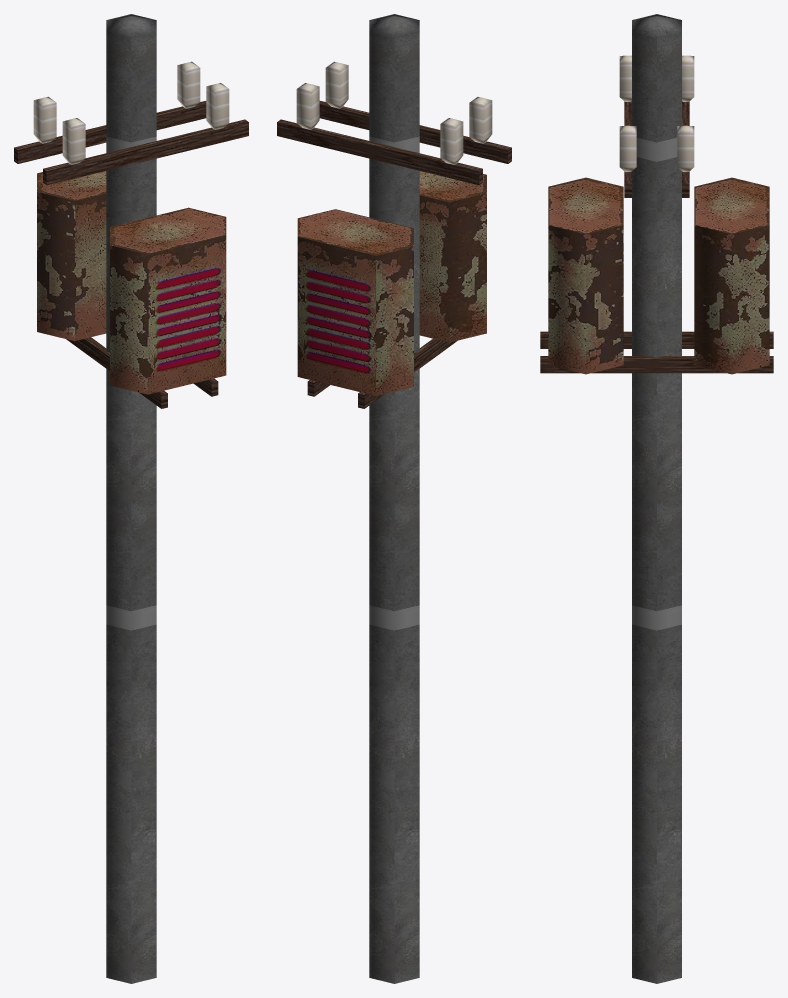
File: pm-electric-post-02.glb
3 renders of one model, left to right at view 1: azimuth 30°, elevation 25°; view 2: azimuth 150°, elevation 25°; view 3: azimuth 270°, elevation 25°, orthographic.
Parts seen in each view (by area): view 1: ElectricPost02_Art; view 2: ElectricPost02_Art; view 3: ElectricPost02_Art.
Part boxes in pixels (left/top/right/bottom): ElectricPost02_Art: left=14, top=14, right=248, bottom=983; ElectricPost02_Art: left=277, top=14, right=511, bottom=983; ElectricPost02_Art: left=540, top=14, right=773, bottom=983.
Size of the model in its own units: 2.31 by 10.43 by 2.31.
Materials: 1 (1 with a texture image).
